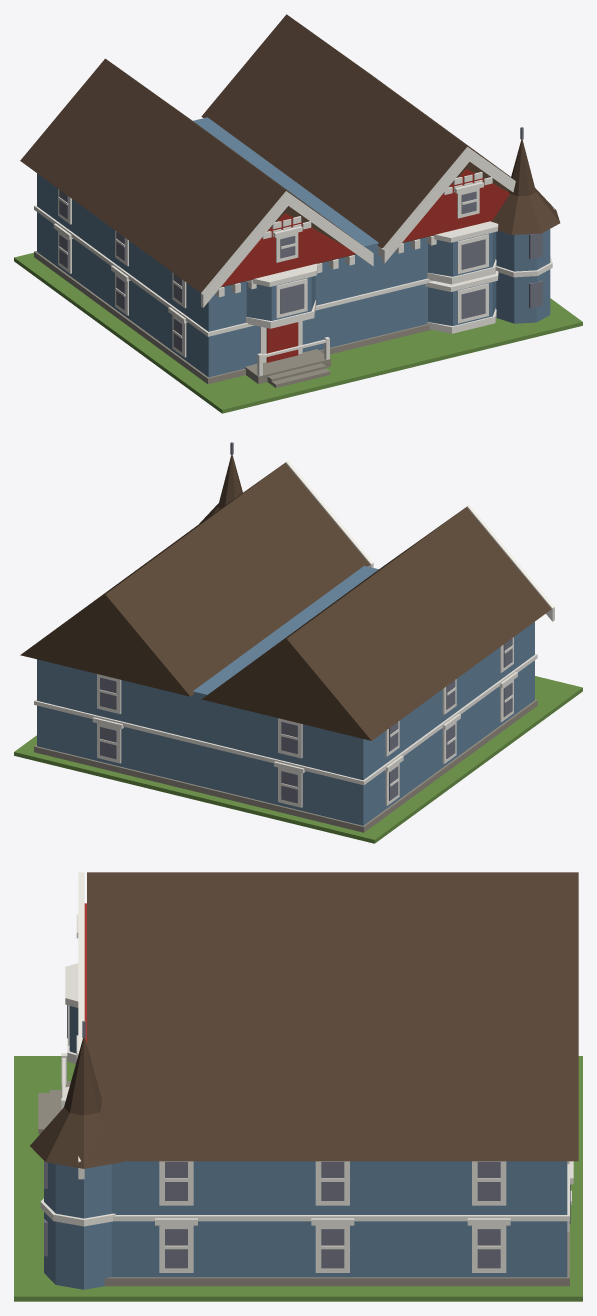
The model's file is house-2x2-2f-victorian-a.glb.
3 renders of one model, top to bottom at view 1: azimuth 30°, elevation 25°; view 2: azimuth 150°, elevation 25°; view 3: azimuth 270°, elevation 25°, orthographic. The views are drawn at different scales.
Visible parts, largest first — view 1: house-2x2-2f-victorian-a; view 2: house-2x2-2f-victorian-a; view 3: house-2x2-2f-victorian-a.
Part boxes in pixels (x1=…): house-2x2-2f-victorian-a: x1=14, y1=14, x2=582, y2=413; house-2x2-2f-victorian-a: x1=14, y1=442, x2=582, y2=843; house-2x2-2f-victorian-a: x1=14, y1=872, x2=582, y2=1301.
Bounding box in the file's own units: 1.99 × 0.99 × 1.99.
1 material, 1 textured.
